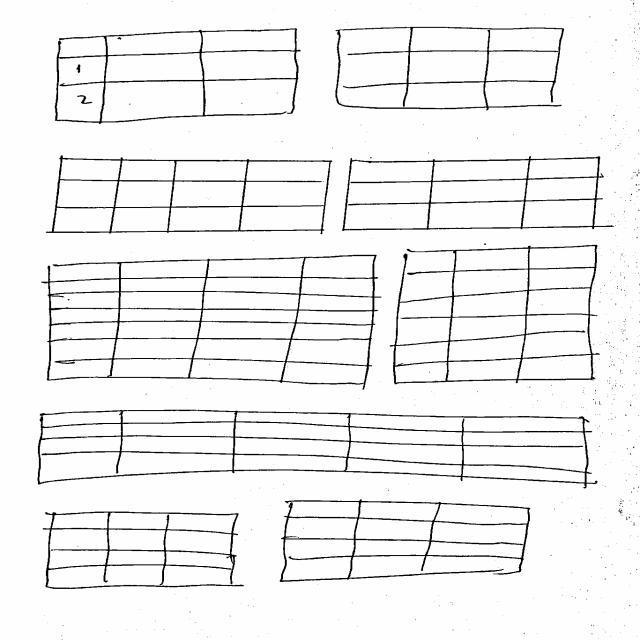table: (45, 255, 380, 390), (35, 408, 596, 488), (392, 244, 603, 387), (52, 28, 303, 126), (277, 499, 535, 585), (49, 158, 333, 236), (342, 157, 605, 234), (334, 26, 566, 112), (44, 511, 242, 593)
